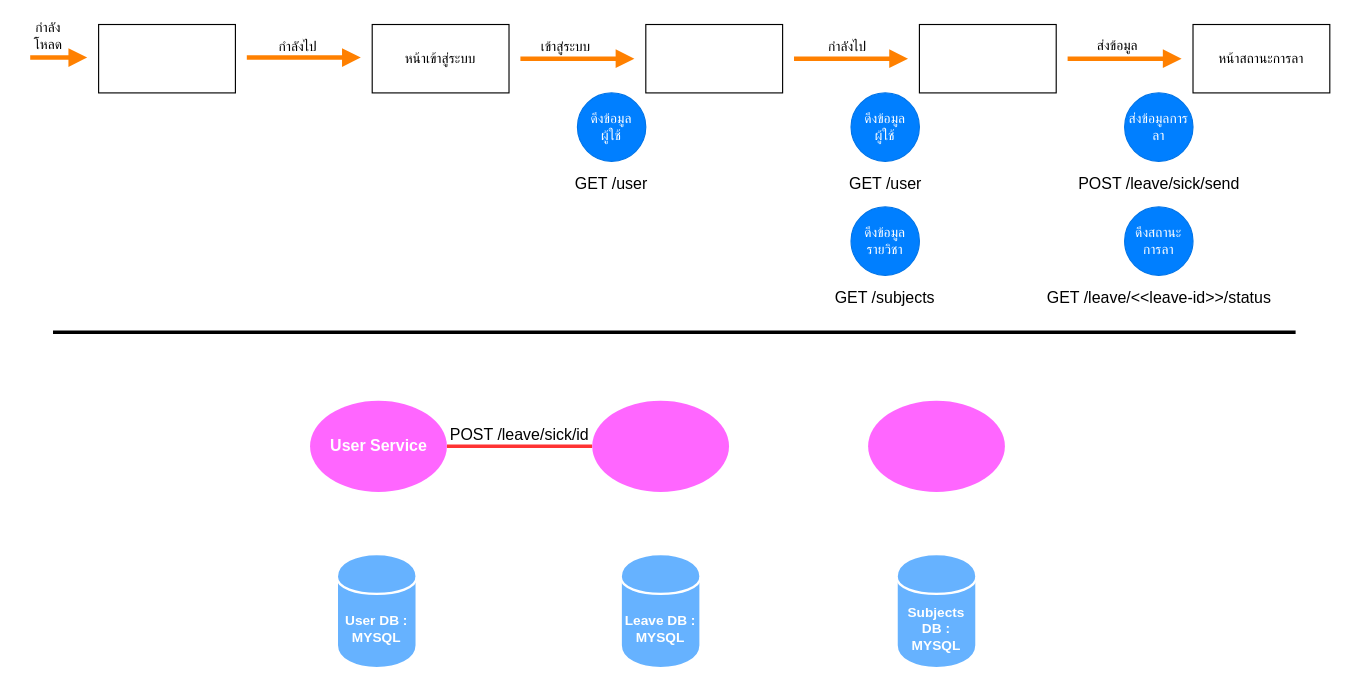
Image size: 1350x689. Some labels were removed from this diagram. The centre of each missing label's shape, as x and y in pixels:
Leave Service: the point at 660,445
Subjects Service: the point at 936,445
หน้าเลือก ประเภทการลา: the point at 714,58
หน้าแบบฟอร์ม การลาป่วย: the point at 987,58
หน้าแรก: the point at 166,58
